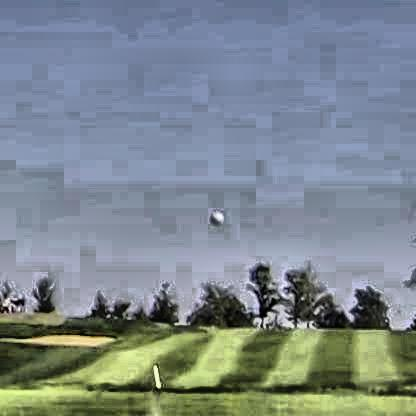golfball: (206, 207, 221, 225)
